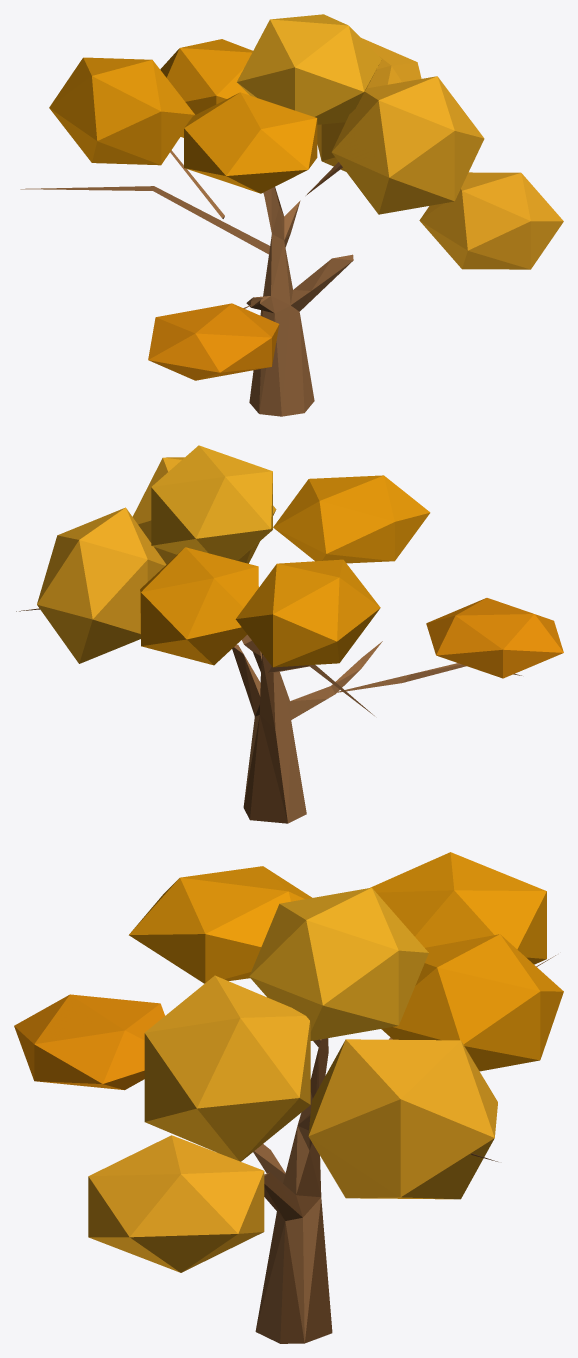
The model's file is yellow_oak_autumn_far.glb.
3 views of the same model, one above another, from view 1: azimuth 30°, elevation 25°; view 2: azimuth 150°, elevation 25°; view 3: azimuth 270°, elevation 25° (orthographic). The views are drawn at different scales.
Parts seen in each view (by area): view 1: yellow_oak_autumn_far; view 2: yellow_oak_autumn_far; view 3: yellow_oak_autumn_far.
Boxes of the visible parts, x1,y1,x2,y2 form: yellow_oak_autumn_far: [20, 14, 563, 416]; yellow_oak_autumn_far: [16, 445, 563, 823]; yellow_oak_autumn_far: [14, 852, 563, 1343].
Bounding box in the file's own units: 7.95 × 6.3 × 6.96.
